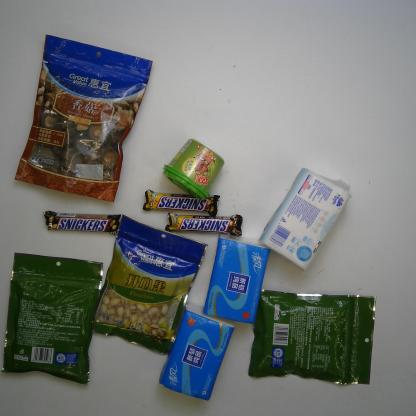Chocolate: (142, 188, 222, 218), (43, 208, 121, 236), (165, 212, 244, 237)
Dried Food: (14, 32, 154, 204)
Dried Fruit: (91, 214, 209, 356), (0, 252, 105, 386), (247, 287, 377, 385)
Instant Drink: (162, 138, 226, 200)
Tissue: (258, 165, 352, 272), (158, 301, 236, 402), (203, 232, 271, 325)
